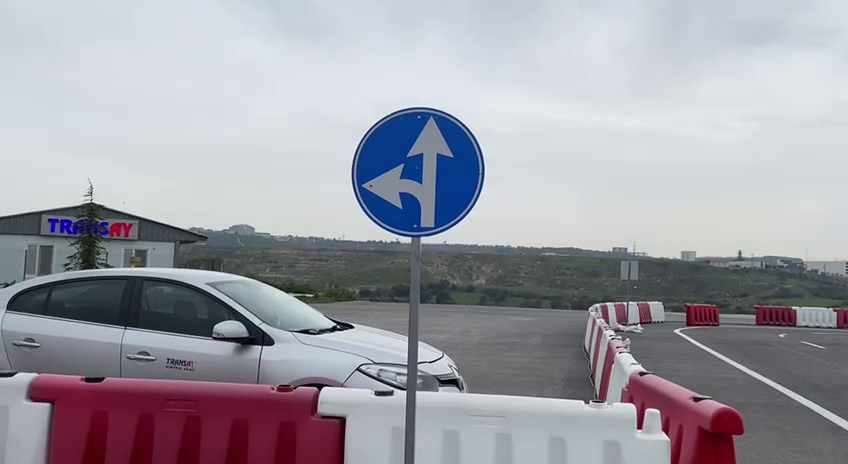forwardAndLeft: (346, 102, 491, 244)
